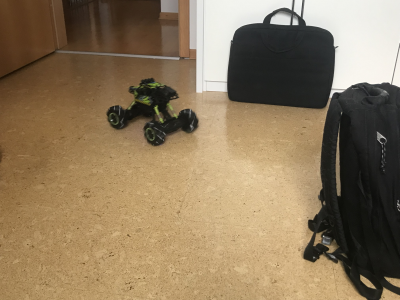remote control car: (106, 76, 199, 147)
